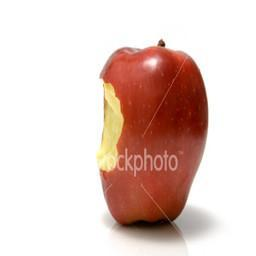apple: (95, 43, 208, 228)
